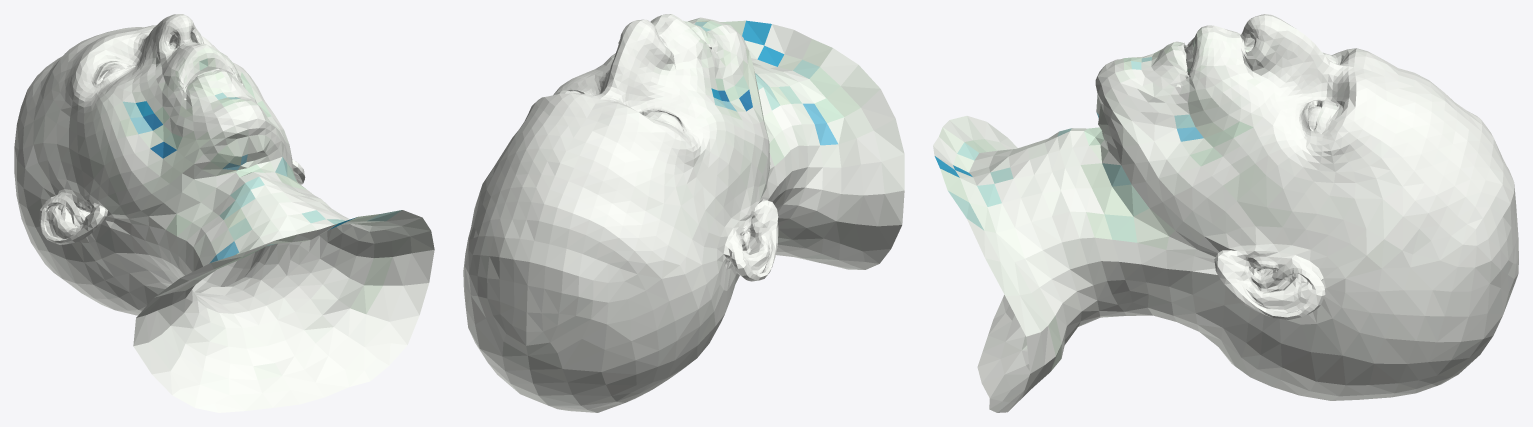
File: comaspiralconv_2.glb
3 views of the same model, side by side, from view 1: azimuth 30°, elevation 25°; view 2: azimuth 150°, elevation 25°; view 3: azimuth 270°, elevation 25° (orthographic). The views are drawn at different scales.
Parts seen in each view (by area): view 1: imagetostl_mesh0; view 2: imagetostl_mesh0; view 3: imagetostl_mesh0.
Boxes of the visible parts, x1,y1,x2,y2 form: imagetostl_mesh0: (14,14,434,412); imagetostl_mesh0: (463,14,904,412); imagetostl_mesh0: (933,14,1518,412).
Size of the model in its own units: 226 by 230 by 327.
